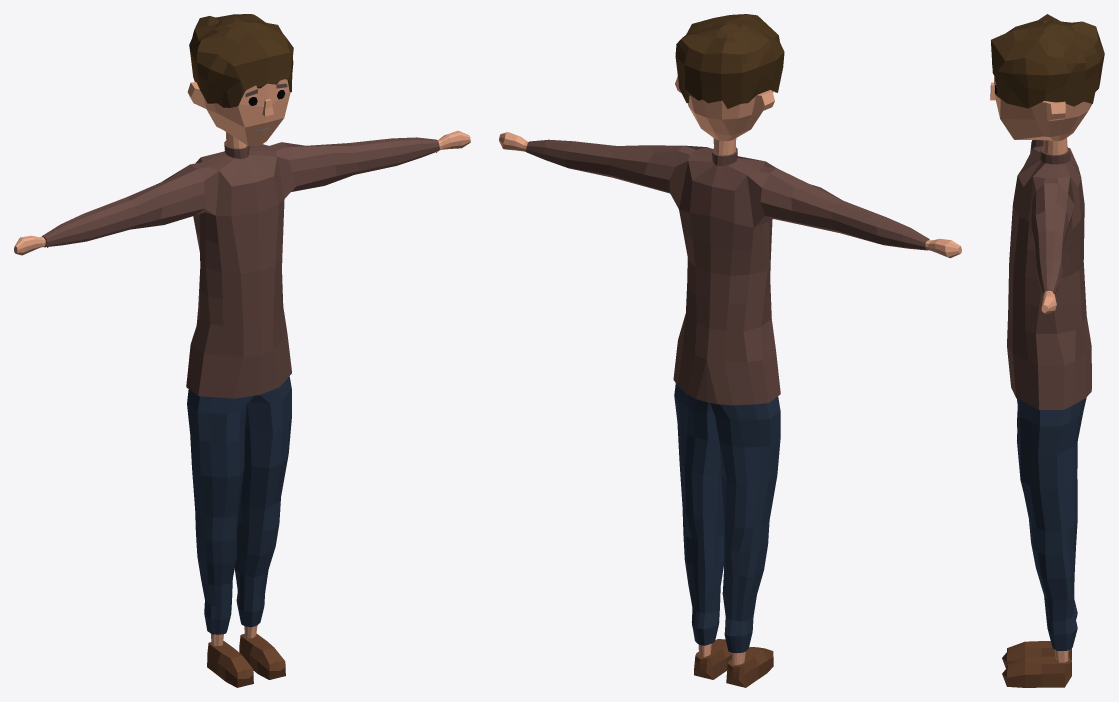
Rendered from npcmale4.fbx.
The picture shows the model from 3 angles, left to right: view 1: azimuth 30°, elevation 25°; view 2: azimuth 150°, elevation 25°; view 3: azimuth 270°, elevation 25°; orthographic projection.
Visible parts, largest first — view 1: Cylinder.006; view 2: Cylinder.006; view 3: Cylinder.006.
Boxes of the visible parts, bbox=[...] form: Cylinder.006: bbox=[14, 14, 470, 687]; Cylinder.006: bbox=[499, 14, 961, 687]; Cylinder.006: bbox=[990, 14, 1104, 687].
Size of the model in its own units: 128 by 174 by 27.77.
